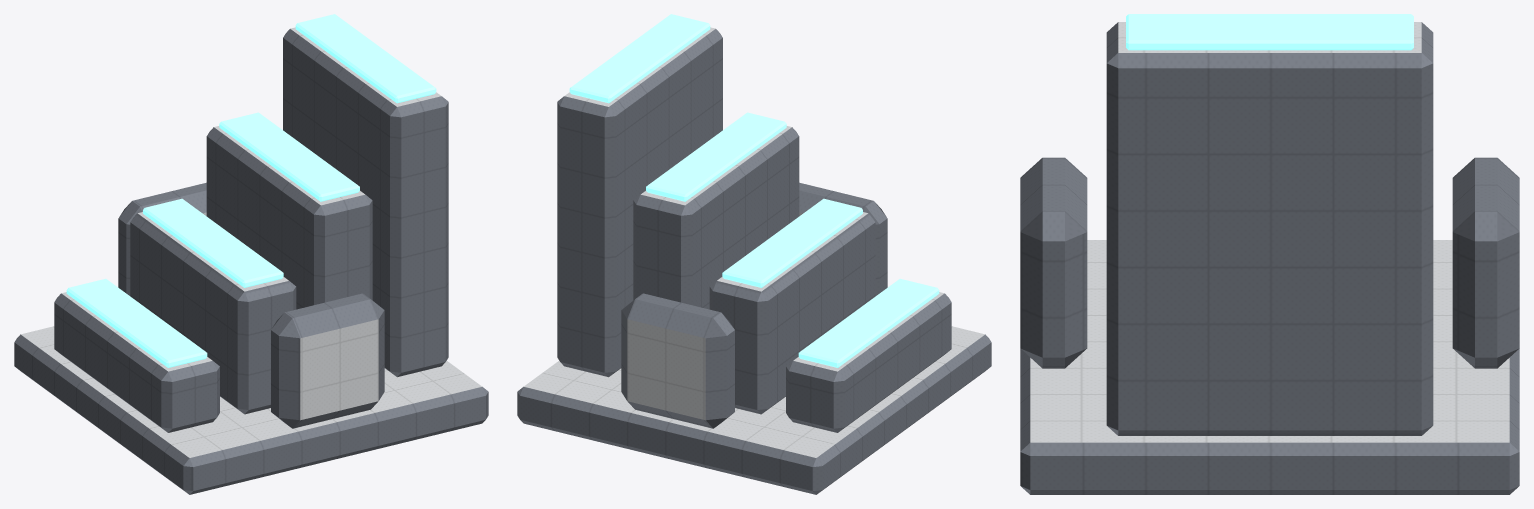
File: R4X_ModuleAmplifier_LOD1.glb
The picture shows the model from 3 angles, left to right: view 1: azimuth 30°, elevation 25°; view 2: azimuth 150°, elevation 25°; view 3: azimuth 270°, elevation 25°; orthographic projection. The views are drawn at different scales.
Parts seen in each view (by area): view 1: R4X_ModuleAmplifier_LOD1; view 2: R4X_ModuleAmplifier_LOD1; view 3: R4X_ModuleAmplifier_LOD1.
Part boxes in pixels (x1,y1,x2,y2): R4X_ModuleAmplifier_LOD1: (14,14,488,494); R4X_ModuleAmplifier_LOD1: (517,14,991,494); R4X_ModuleAmplifier_LOD1: (1020,14,1519,494).
Bounding box in the file's own units: 0.52 × 0.512 × 0.52.
3 materials, 2 textured.
